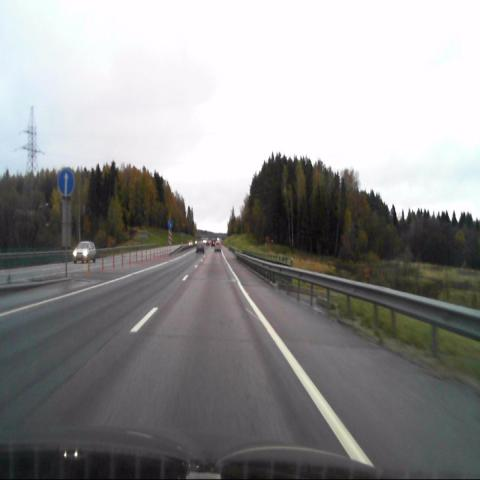4_1_1: (58, 169, 74, 195)
